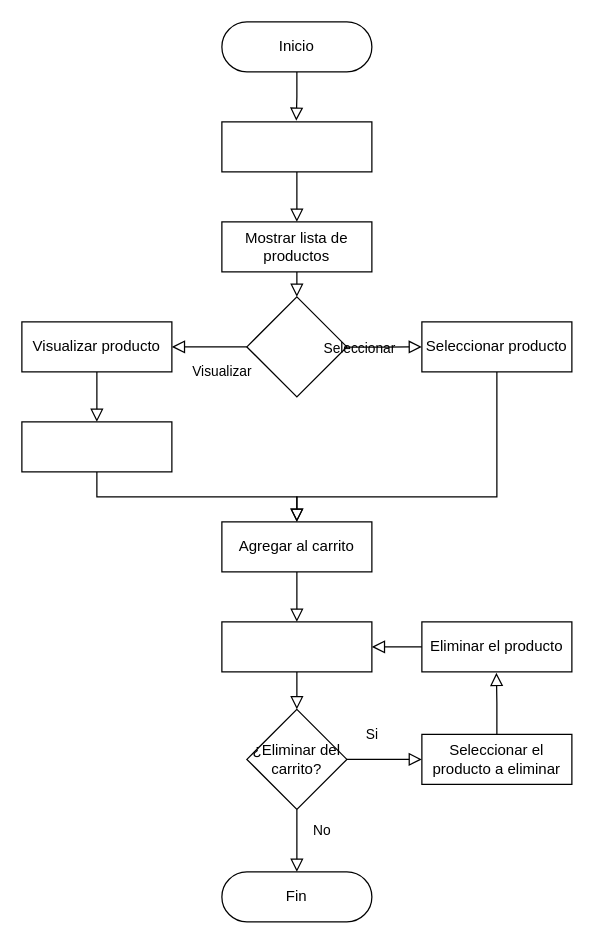
Image size: 594x944. Some labels were removed from this diagram. The shapes that lost their labels are listed below. From the top down, each one's centre as x and y in pixels, then its label:
the point at 296,146: Página de inicio
the point at 296,346: Seleccionar o visualizar producto
the point at 96,446: Mostrar detalles del producto
the point at 296,646: Ver lista de compras
